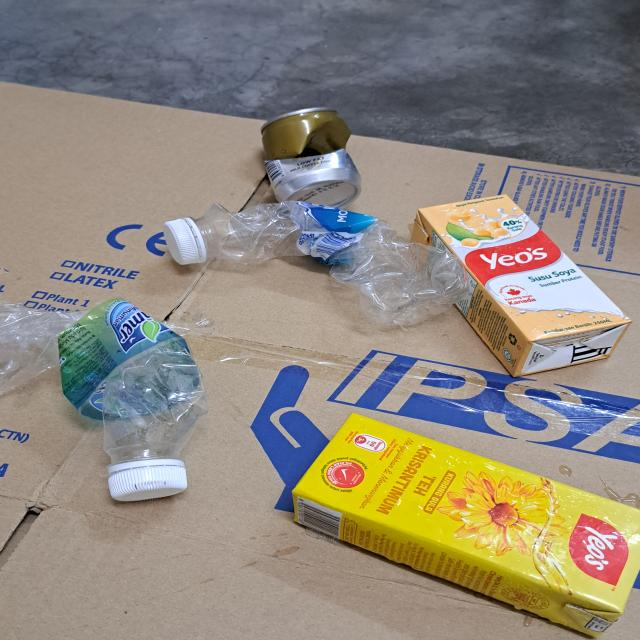can: (258, 106, 360, 209)
cardboard: (0, 79, 640, 640)
drink carton: (292, 412, 640, 638), (415, 194, 631, 379)
plastic bottle: (197, 199, 461, 329), (0, 299, 208, 463)
plastic bottle cap: (108, 463, 188, 502), (163, 219, 203, 265)
